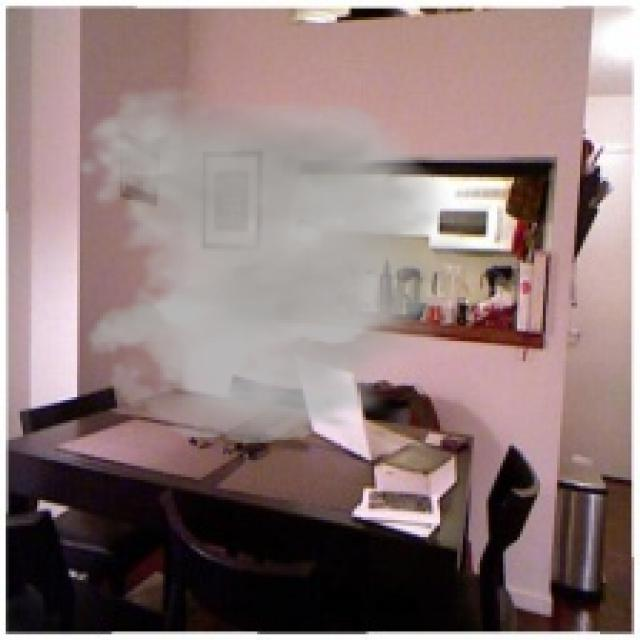smoke: (74, 86, 500, 443)
